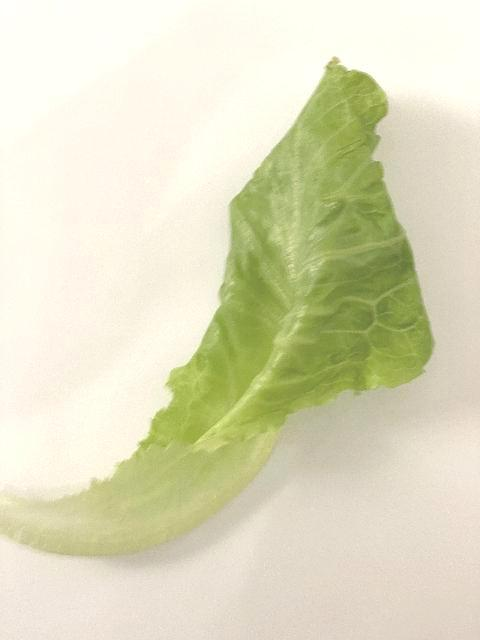lettuce: (0, 53, 436, 559)
